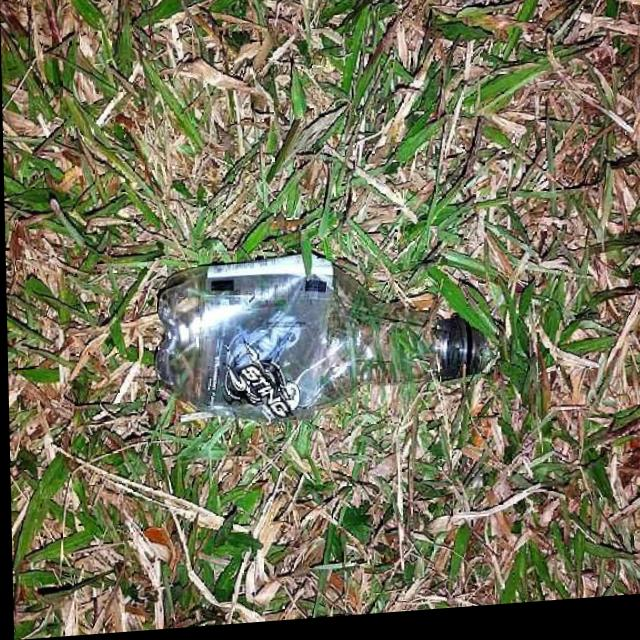Non-biodegradable: (154, 248, 487, 435)
